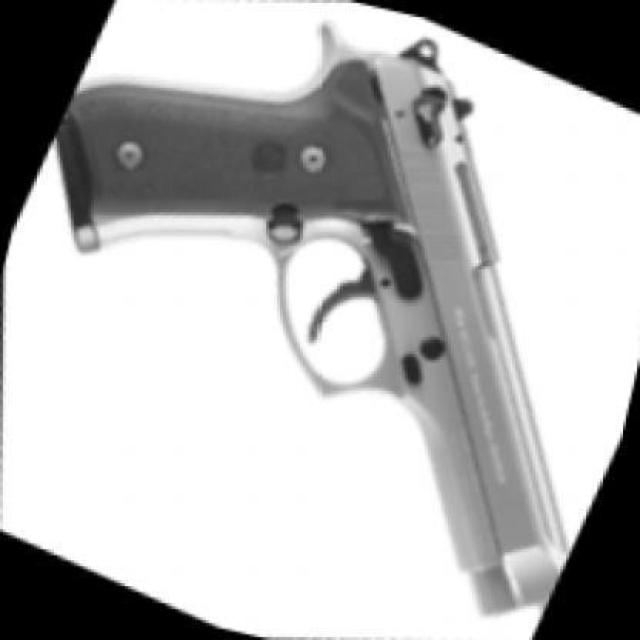weapon: (52, 22, 576, 618)
